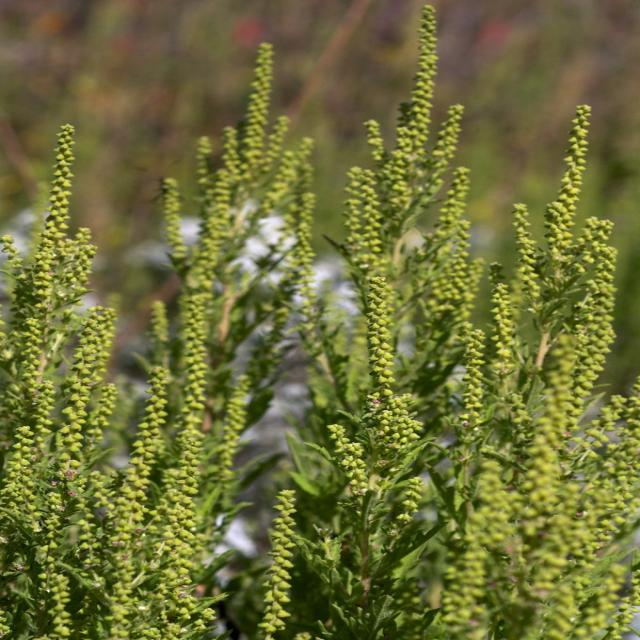ambrosia: (346, 263, 636, 443), (142, 38, 316, 300), (10, 110, 114, 409), (468, 453, 622, 640), (380, 4, 487, 257), (510, 97, 628, 261), (130, 362, 203, 610), (253, 489, 310, 637)
